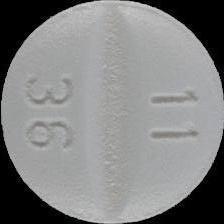13668-136: (0, 0, 224, 224)
